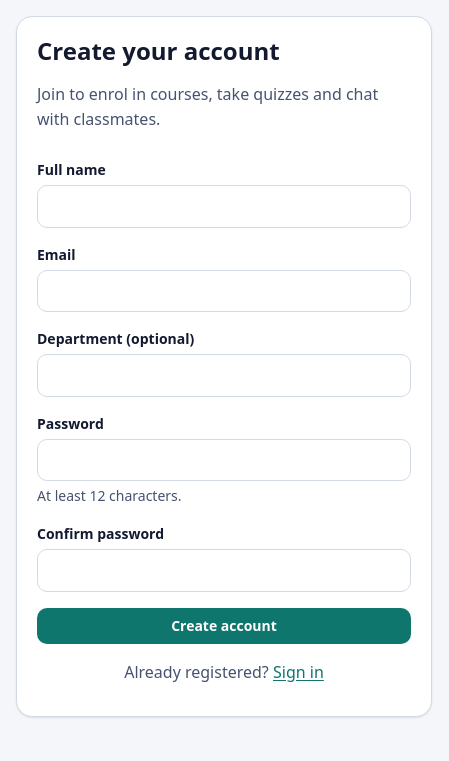
Scenario: Register › surfaces field errors returned by the server
Type "Sam Student" into the field labelled "Full name".
click(224, 206); type("Sam Student")  # box left=37, top=185, right=411, bottom=228
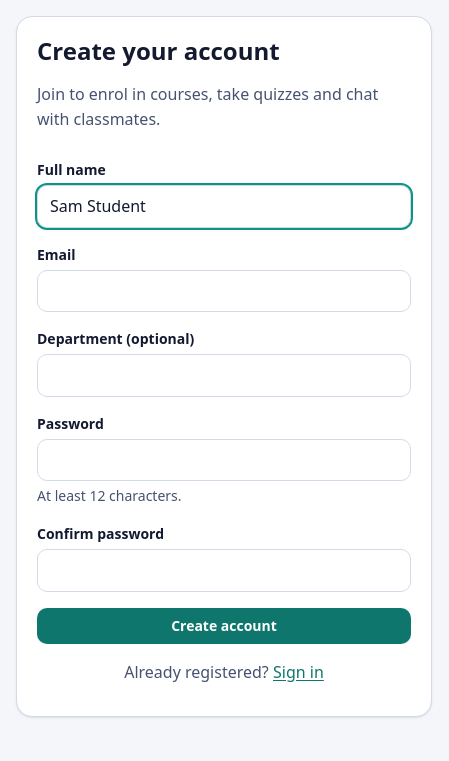
Type "sam@x.io" into the field labelled "Email".
click(224, 291); type("sam@x.io")  # box left=37, top=270, right=411, bottom=312
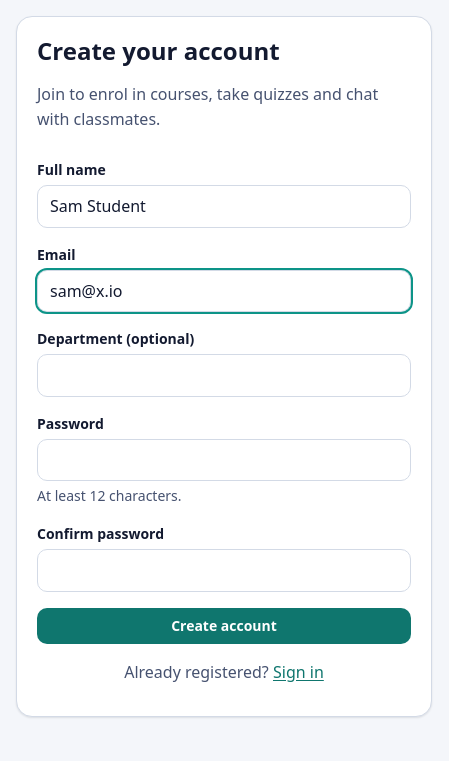
Type "a-long-enough-password" into the password field labelled "Password".
click(224, 460); type("a-long-enough-password")  # box left=37, top=438, right=411, bottom=481
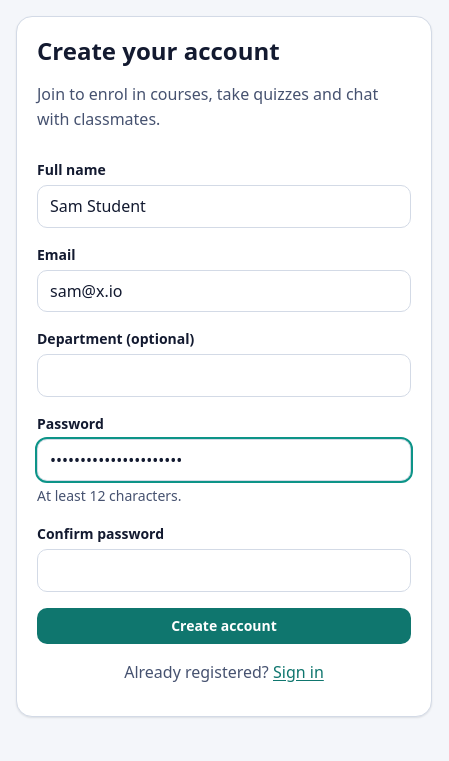
Type "a-long-enough-password" into the password field labelled "Confirm password".
click(224, 570); type("a-long-enough-password")  # box left=37, top=549, right=411, bottom=592
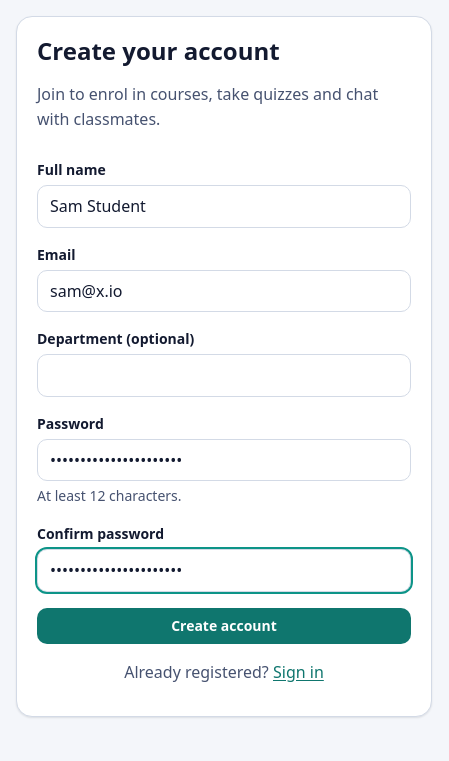
Click the button "Create account".
click(224, 626)  # box left=37, top=608, right=411, bottom=644
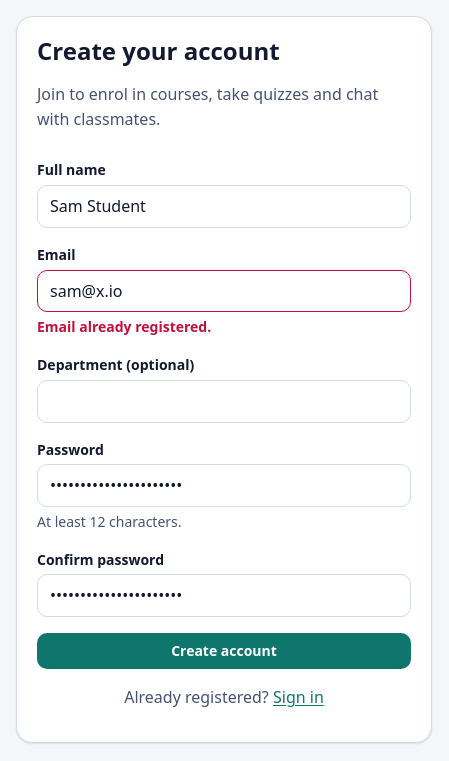
Result: the text "Email already registered." is shown at left=37, top=317, right=211, bottom=336
